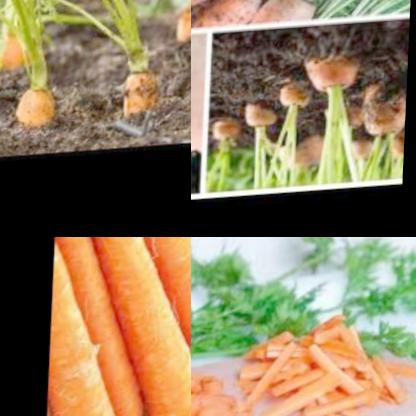carrot: (64, 237, 191, 416), (48, 237, 170, 416), (231, 311, 416, 416), (46, 237, 153, 416), (137, 237, 191, 358), (191, 355, 255, 416), (360, 79, 409, 154), (255, 0, 328, 43), (303, 56, 360, 107), (200, 0, 276, 38), (121, 70, 166, 133), (242, 92, 286, 142), (15, 90, 58, 135), (273, 78, 319, 119), (0, 25, 34, 74), (168, 0, 191, 62)
